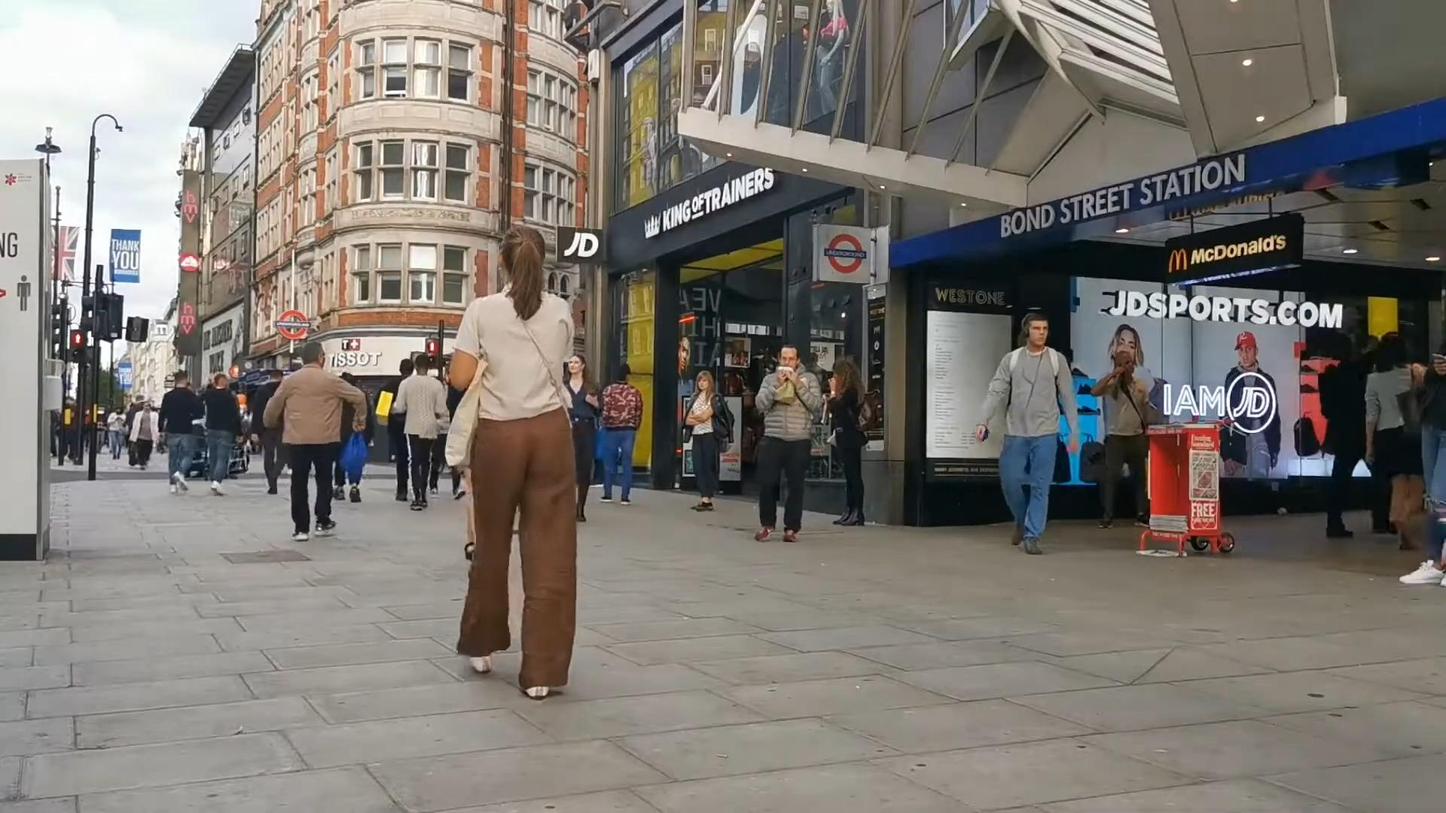no-helmet: (497, 225, 546, 322), (1377, 336, 1409, 376), (1022, 312, 1049, 348), (832, 360, 859, 385), (301, 341, 325, 369), (778, 344, 801, 372), (566, 354, 588, 377), (1115, 350, 1133, 375), (695, 370, 714, 392)
